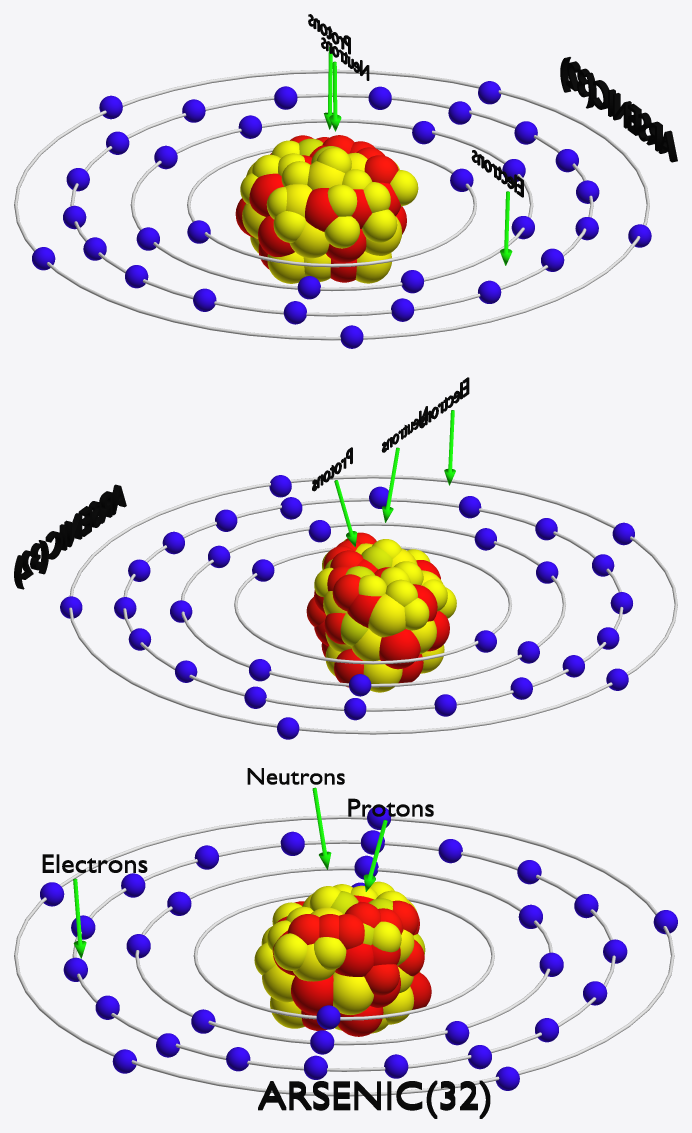
The model's file is Arsenic Atomic Model.gltf.
3 views of the same model, one above another, from view 1: azimuth 30°, elevation 25°; view 2: azimuth 150°, elevation 25°; view 3: azimuth 270°, elevation 25° (orthographic). The views are drawn at different scales.
Parts seen in each view (by area): view 1: Sphere.016, Torus.003, Torus.002, Text.003, Torus.001, Torus, Text, Text.001; view 2: Sphere.016, Torus.003, Torus.002, Text.003, Torus.001, Torus, Text; view 3: Sphere.016, Torus.003, Torus.002, Text.003, Torus.001, Torus, Text, Text.001, Text.002.
Boxes of the visible parts, box(x1,y1,x2,y2) form: Sphere.016: box(235, 135, 418, 283); Torus.003: box(14, 69, 649, 340); Torus.002: box(70, 93, 593, 316); Text.003: box(560, 57, 677, 162); Torus.001: box(130, 119, 533, 291); Torus: box(187, 145, 476, 267); Text: box(471, 150, 523, 197); Text.001: box(321, 37, 369, 80); Sphere.016: box(306, 532, 456, 692); Torus.003: box(69, 475, 677, 734); Torus.002: box(123, 498, 623, 711); Text.003: box(14, 484, 126, 589); Torus.001: box(181, 522, 565, 687); Torus: box(234, 546, 511, 664); Text: box(419, 377, 469, 428); Sphere.016: box(254, 881, 431, 1036); Torus.003: box(14, 815, 674, 1096); Torus.002: box(72, 840, 615, 1071); Text.003: box(258, 1080, 490, 1118); Torus.001: box(135, 866, 552, 1045); Torus: box(193, 892, 494, 1020); Text: box(42, 854, 147, 872); Text.001: box(247, 768, 344, 784); Text.002: box(348, 798, 433, 816).
Bounding box in the file's own units: 9.67 × 3.86 × 9.14.
